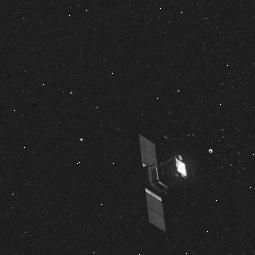soho: (128, 116, 207, 240)
